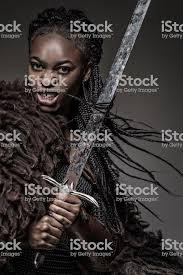black_female: (26, 24, 92, 109)
